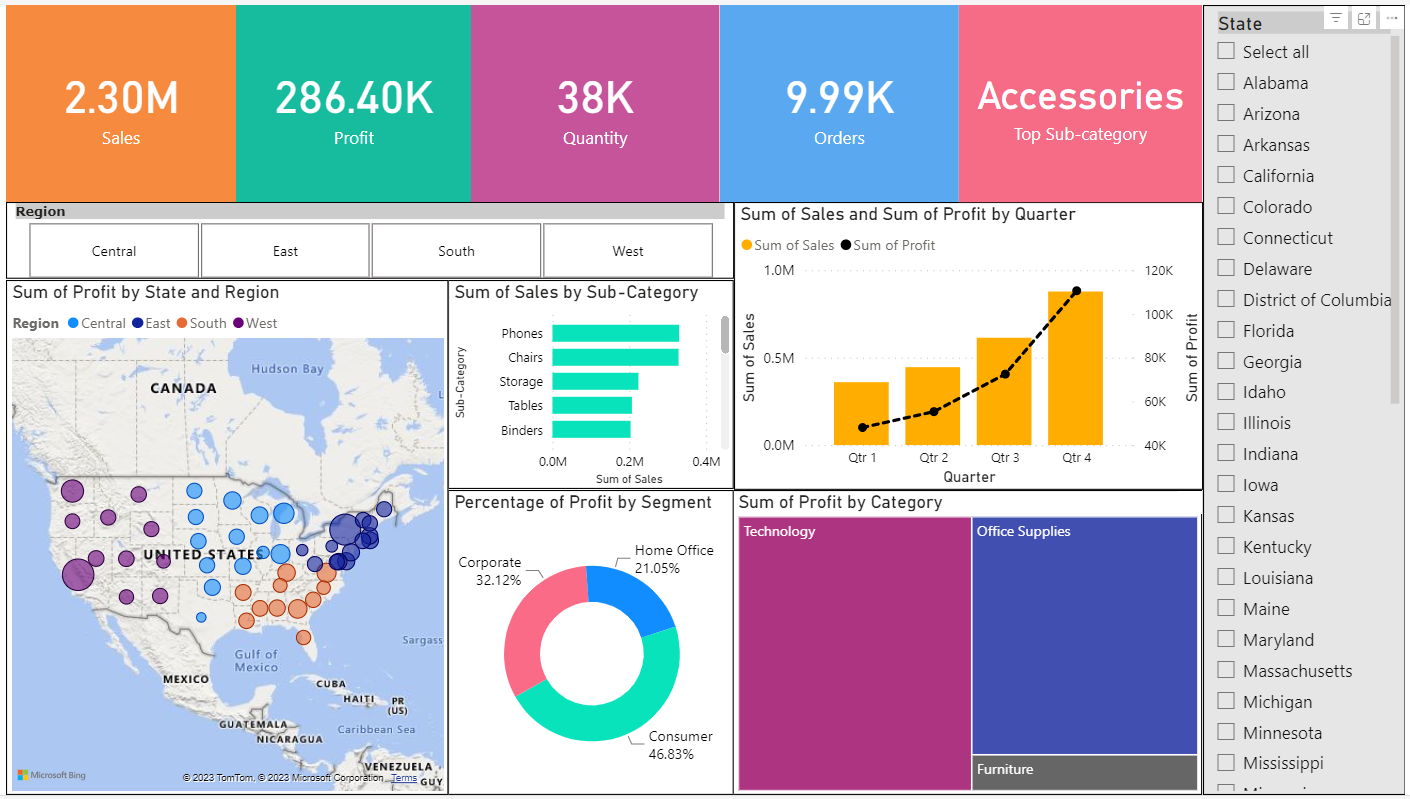

The dashboard page shown, as its layout file describes it:
{"tool":"powerbi","page":{"name":"E-Commerce Sales Dashboard","canvas":[1312,741],"ordinal":0},"visuals":[{"type":"card","fields":{"Values":["Sum(Orders.Sales)"]},"box":[0,0,215.5,184.8],"z":0},{"type":"card","fields":{"Values":["Sum(Orders.Profit)"]},"box":[215.5,0,220.5,184.8],"z":1000},{"type":"card","fields":{"Values":["Sum(Orders.Quantity)"]},"box":[436.1,0,233.4,184.8],"z":2000},{"type":"card","fields":{"Values":["CountNonNull(Orders.Order ID)"]},"box":[669.5,0,224.5,184.8],"z":3000},{"type":"slicer","fields":{"Values":["Orders.State"]},"box":[1122.3,0,189.8,741],"z":4000},{"type":"lineClusteredColumnComboChart","fields":{"Category":["Orders.Order Date.Variation.Date Hierarchy.Year","Orders.Order Date.Variation.Date Hierarchy.Quarter","Orders.Order Date.Variation.Date Hierarchy.Month","Orders.Order Date.Variation.Date Hierarchy.Day"],"Y":["Sum(Orders.Sales)"],"Y2":["Sum(Orders.Profit)"]},"box":[682.4,184.8,440,270.2],"z":5000},{"type":"treemap","fields":{"Values":["Sum(Orders.Profit)"],"Group":["Orders.Category"]},"box":[681.1,454.6,441.3,286.4],"z":6000},{"type":"slicer","fields":{"Values":["Orders.Region"]},"box":[0,184.8,682.7,71.6],"z":7000},{"type":"donutChart","title":"Percentage of Profit by Segment","fields":{"Y":["Sum(Orders.Profit)"],"Category":["Orders.Segment"]},"box":[414.6,454.6,268.1,286.4],"z":8000},{"type":"clusteredBarChart","fields":{"Y":["Sum(Orders.Sales)"],"Category":["Orders.Sub-Category"]},"box":[414.6,258.1,268.1,196.5],"z":9000},{"type":"map","fields":{"Category":["Orders.State"],"Series":["Orders.Region"],"Size":["Sum(Orders.Profit)"]},"box":[0,258.1,414.6,482.9],"z":10000},{"type":"card","fields":{"Values":["Min(Orders.Sub-Category)"]},"box":[894,0,228.5,184.8],"z":11000}]}

Visuals, with their boxes in screenshot pixels (x1, y1, x2, y2), scaled from the page's 1312x741 canvas onto the 1410x799 screenshot:
card - Sum(Orders.Sales): detection(0, 0, 232, 199)
card - Sum(Orders.Profit): detection(232, 0, 469, 199)
card - Sum(Orders.Quantity): detection(469, 0, 720, 199)
card - CountNonNull(Orders.Order ID): detection(720, 0, 961, 199)
slicer - Orders.State: detection(1206, 0, 1409, 798)
lineClusteredColumnComboChart - Orders.Order Date.Variation.Date Hierarchy.Year x Orders.Order Date.Variation.Date Hierarchy.Quarter: detection(733, 199, 1206, 491)
treemap - Sum(Orders.Profit) x Orders.Category: detection(732, 490, 1206, 798)
slicer - Orders.Region: detection(0, 199, 734, 276)
"Percentage of Profit by Segment" donutChart: detection(446, 490, 734, 798)
clusteredBarChart - Sum(Orders.Sales) x Orders.Sub-Category: detection(446, 278, 734, 490)
map - Orders.State x Orders.Region: detection(0, 278, 446, 798)
card - Min(Orders.Sub-Category): detection(961, 0, 1206, 199)
